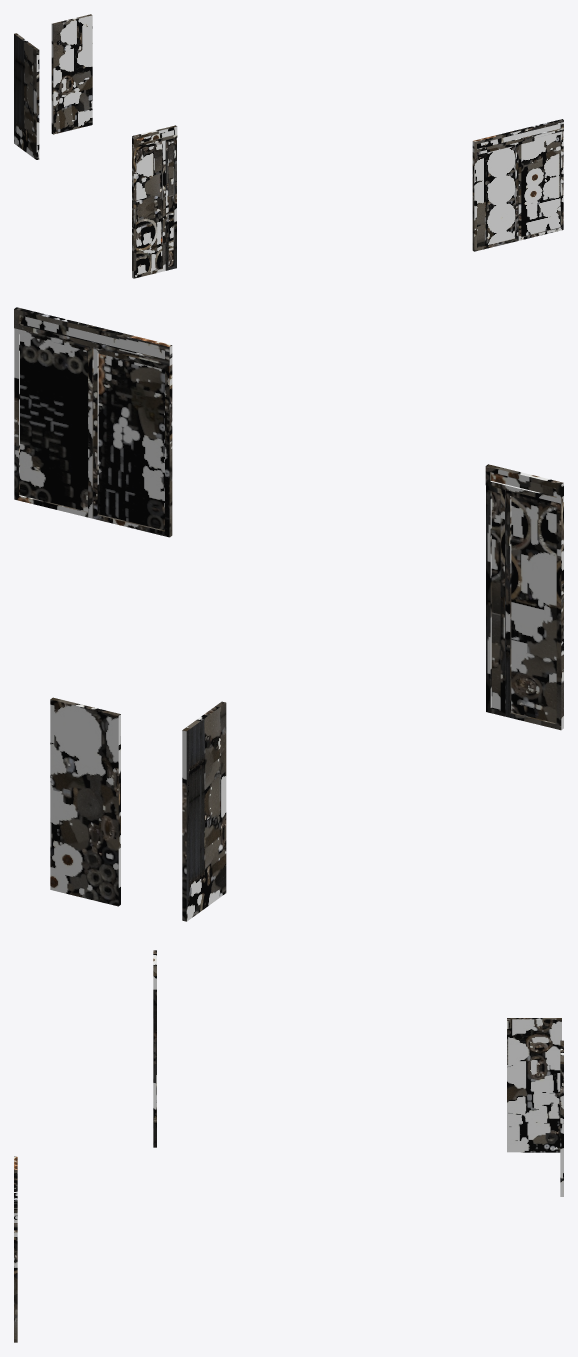
Rendered from hotelhamilton_8.obj.
3 renders of one model, top to bottom at view 1: azimuth 30°, elevation 25°; view 2: azimuth 150°, elevation 25°; view 3: azimuth 270°, elevation 25°, orthographic. The views are drawn at different scales.
Size of the model in its own units: 7.11 by 2.58 by 7.49.
